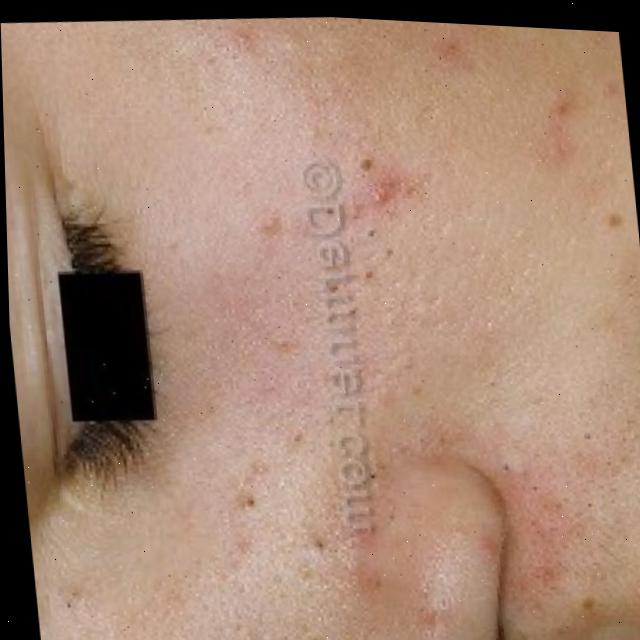Acne: (327, 138, 407, 230)
